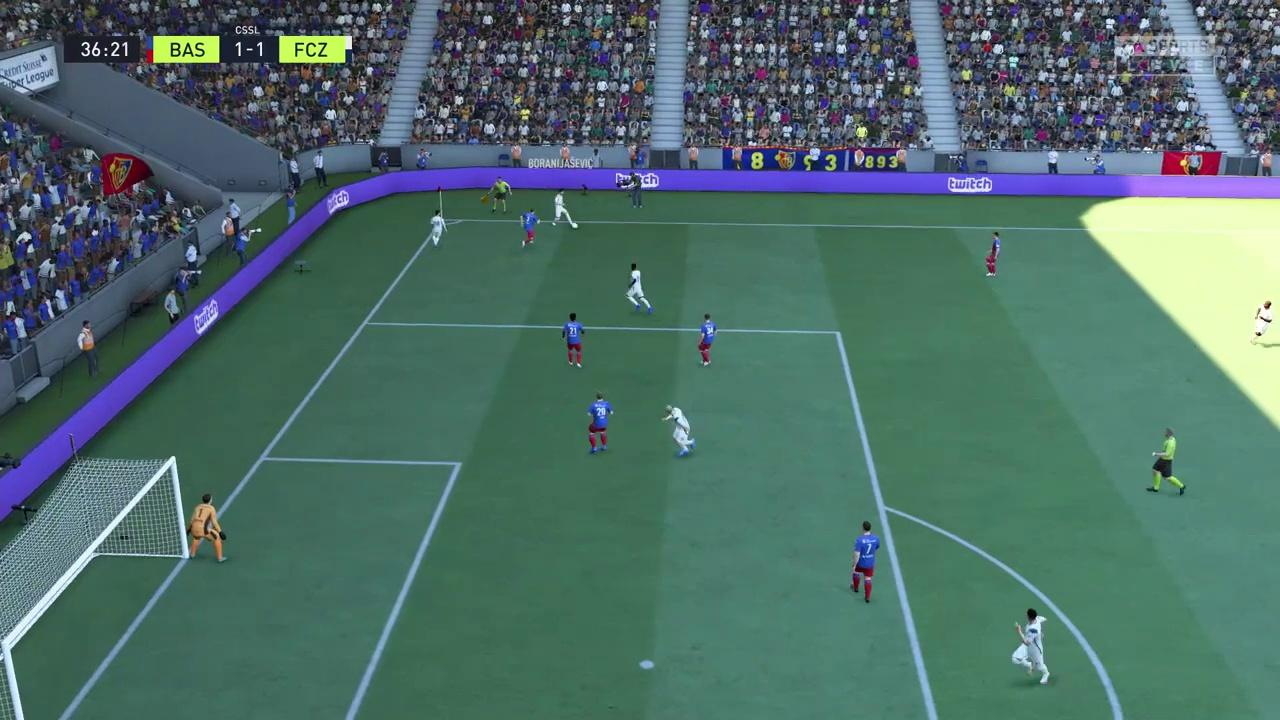scoreboard: (153, 33, 355, 63)
timestamp: (63, 35, 135, 61)
